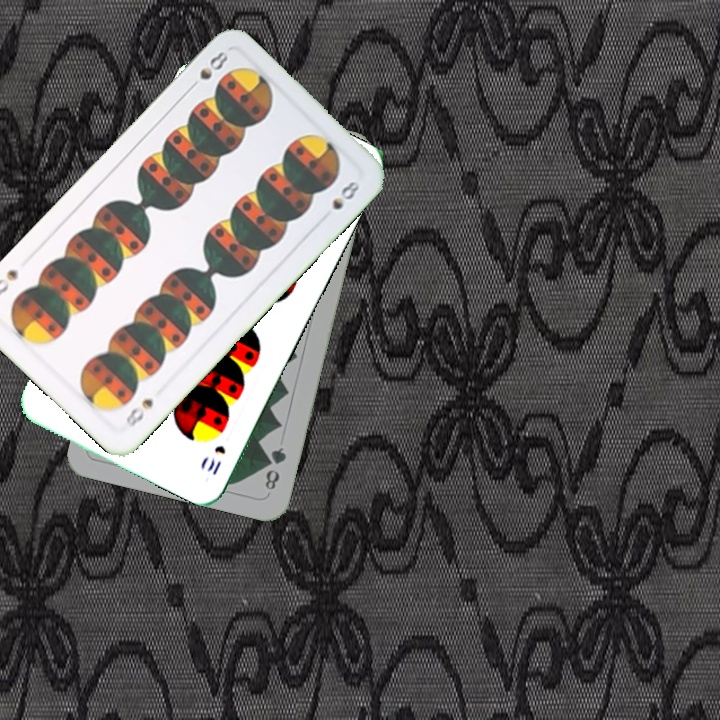G8: (261, 443, 289, 493)
S10: (203, 441, 228, 478)
S8: (184, 47, 231, 94), (122, 394, 156, 430)
